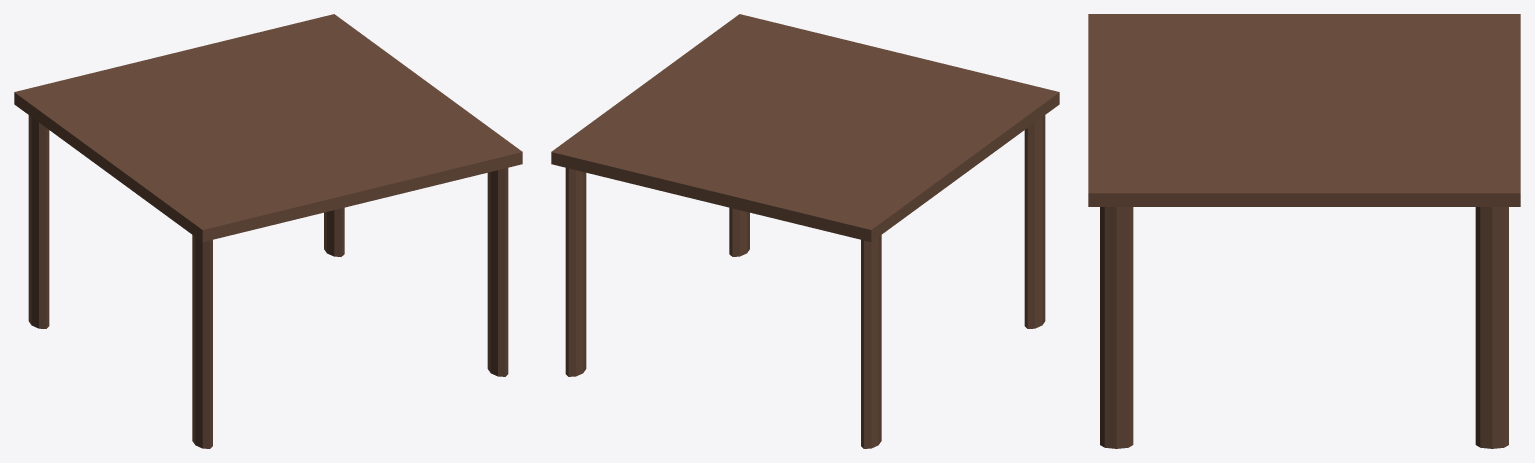
The model's file is Table.fbx.
3 renders of one model, left to right at view 1: azimuth 30°, elevation 25°; view 2: azimuth 150°, elevation 25°; view 3: azimuth 270°, elevation 25°, orthographic. The views are drawn at different scales.
Parts seen in each view (by area): view 1: PC_Table1_C1; view 2: PC_Table1_C1; view 3: PC_Table1_C1.
Boxes of the visible parts, x1,y1,x2,y2 form: PC_Table1_C1: [14, 14, 522, 448]; PC_Table1_C1: [551, 14, 1059, 448]; PC_Table1_C1: [1088, 14, 1520, 448].
Bounding box in the file's own units: 258 × 174 × 263.
